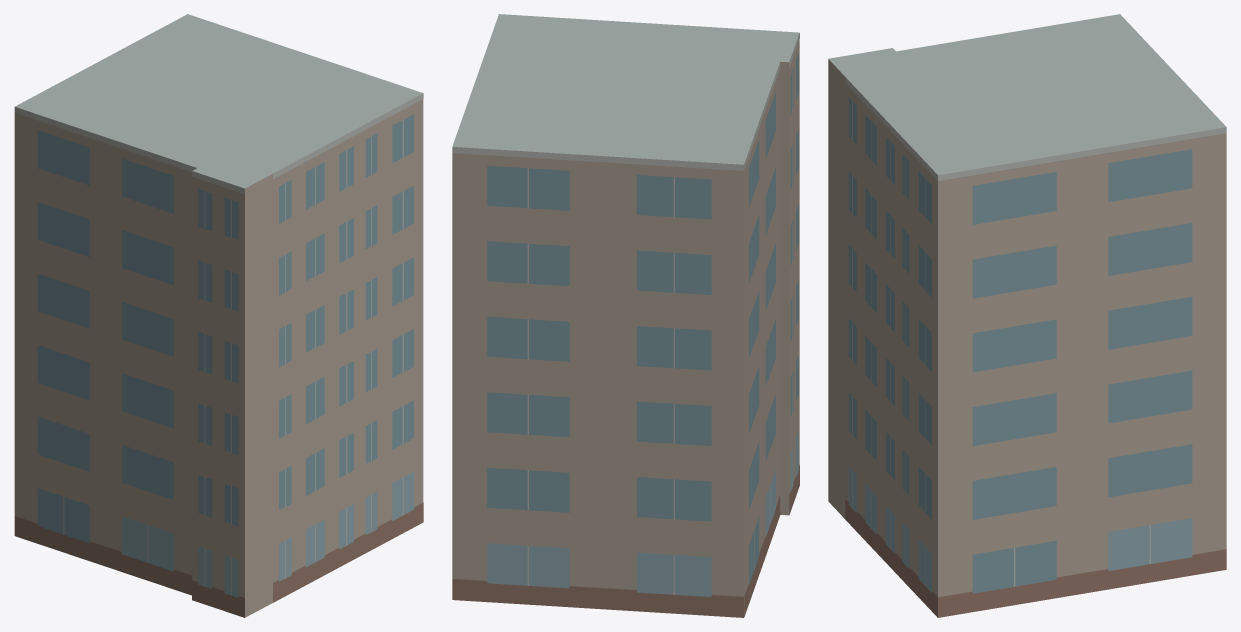
File: survey-upis-32857025.glb
3 renders of one model, left to right at view 1: azimuth 30°, elevation 25°; view 2: azimuth 150°, elevation 25°; view 3: azimuth 270°, elevation 25°, orthographic. The views are drawn at different scales.
Visible parts, largest first — view 1: survey-upis-32857025.tmp; view 2: survey-upis-32857025.tmp; view 3: survey-upis-32857025.tmp.
Boxes of the visible parts, x1,y1,x2,y2 form: survey-upis-32857025.tmp: [14, 14, 423, 617]; survey-upis-32857025.tmp: [452, 14, 799, 617]; survey-upis-32857025.tmp: [828, 14, 1226, 617].
Bounding box in the file's own units: 14.07 × 18 × 14.69.
